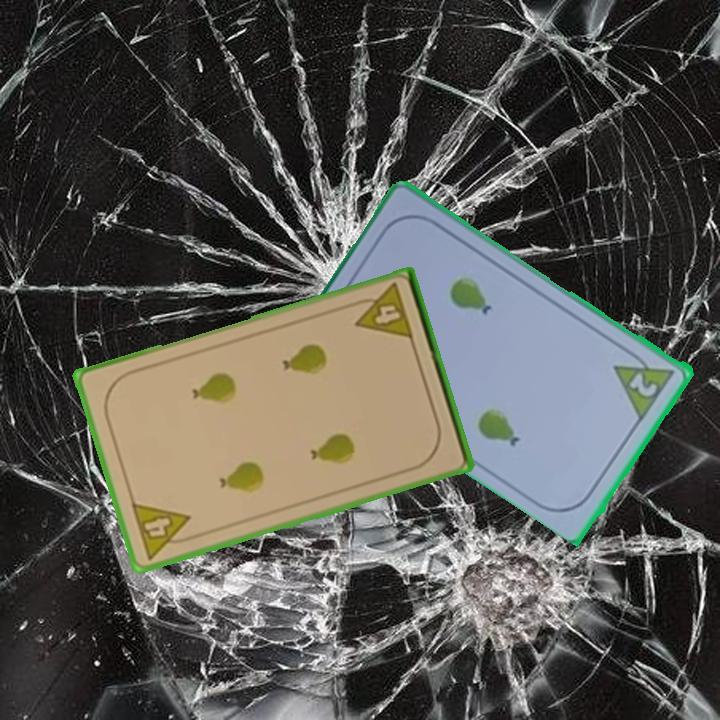2p: (610, 344, 679, 422)
4p: (127, 499, 199, 562), (347, 280, 416, 343)
